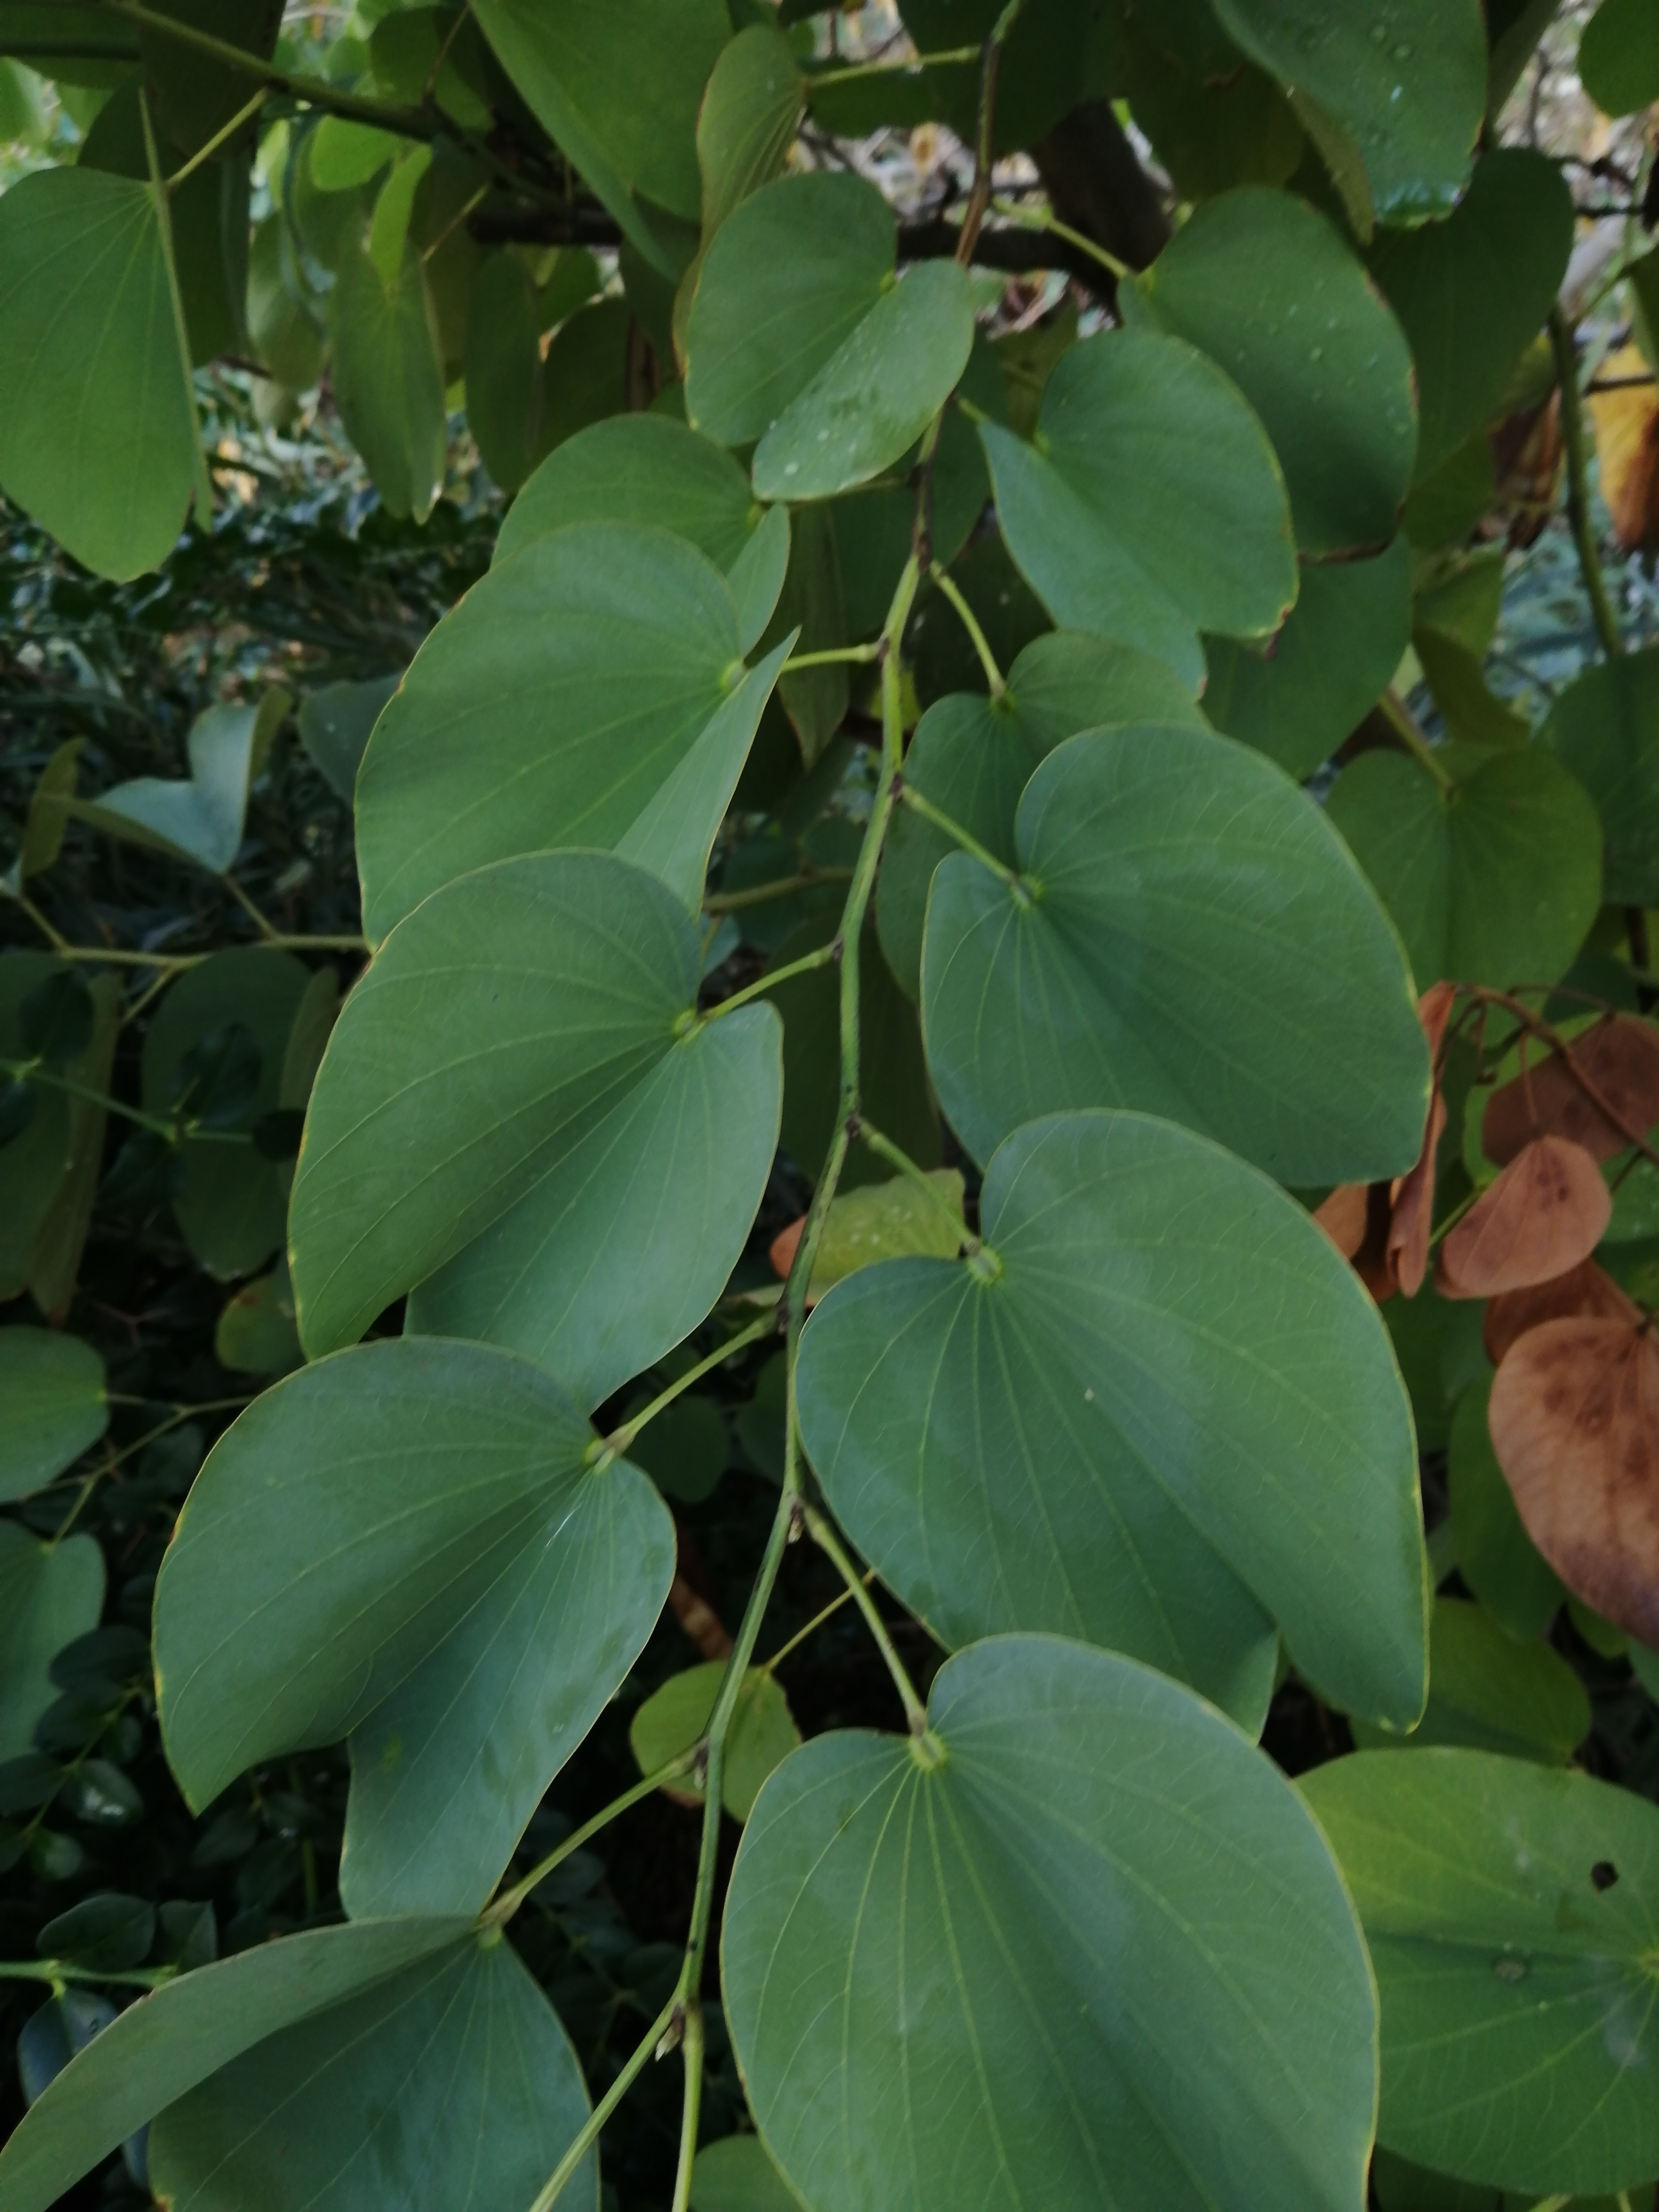healthy: (737, 1653, 1403, 2212), (863, 1172, 1469, 1735), (275, 836, 817, 1414), (188, 1278, 660, 1855), (305, 484, 882, 956), (918, 745, 1434, 1240), (664, 136, 978, 521), (997, 338, 1316, 676), (1338, 721, 1619, 1000)
